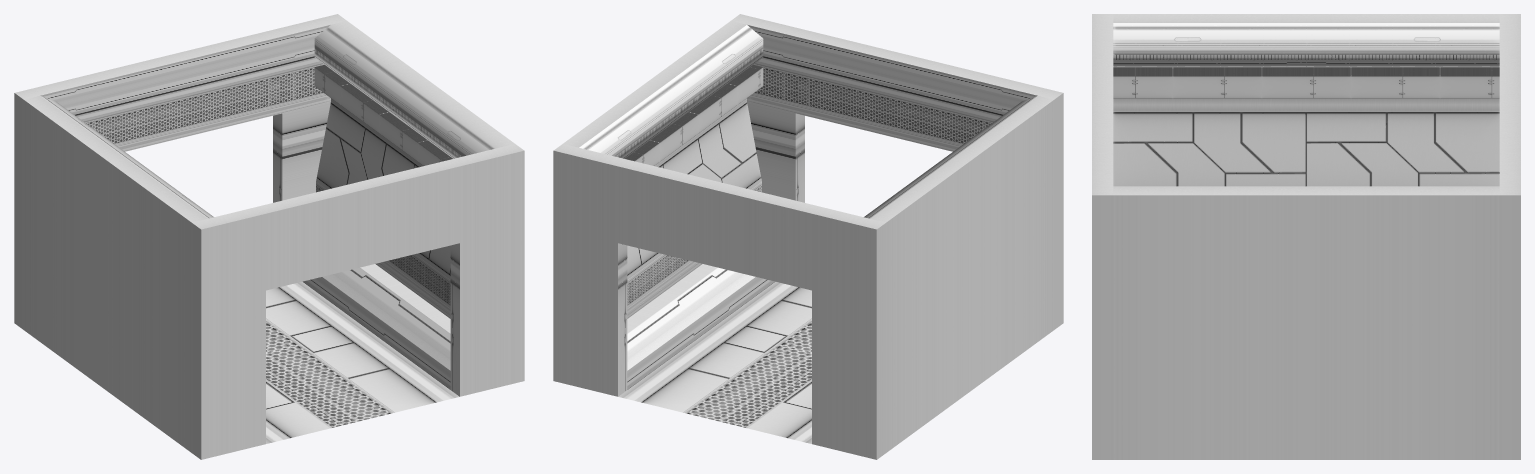
Rendered from Raum_2_Tunnel_Fixed.fbx.
The picture shows the model from 3 angles, left to right: view 1: azimuth 30°, elevation 25°; view 2: azimuth 150°, elevation 25°; view 3: azimuth 270°, elevation 25°; orthographic projection. The views are drawn at different scales.
Visible parts, largest first — view 1: polySurface2, polySurface7, polySurface6, polySurface5; view 2: polySurface2, polySurface7, polySurface6, polySurface5; view 3: polySurface2, polySurface5.
Boxes of the visible parts, x1,y1,x2,y2 form: polySurface2: [14, 14, 524, 459]; polySurface7: [314, 25, 498, 318]; polySurface6: [303, 264, 450, 389]; polySurface5: [41, 96, 213, 218]; polySurface2: [553, 14, 1063, 459]; polySurface7: [579, 25, 763, 318]; polySurface6: [627, 264, 774, 389]; polySurface5: [864, 96, 1036, 218]; polySurface2: [1092, 14, 1520, 459]; polySurface5: [1113, 23, 1499, 186].
Size of the model in its own units: 10 by 6.81 by 10.
Materials: 1 (1 with a texture image).
